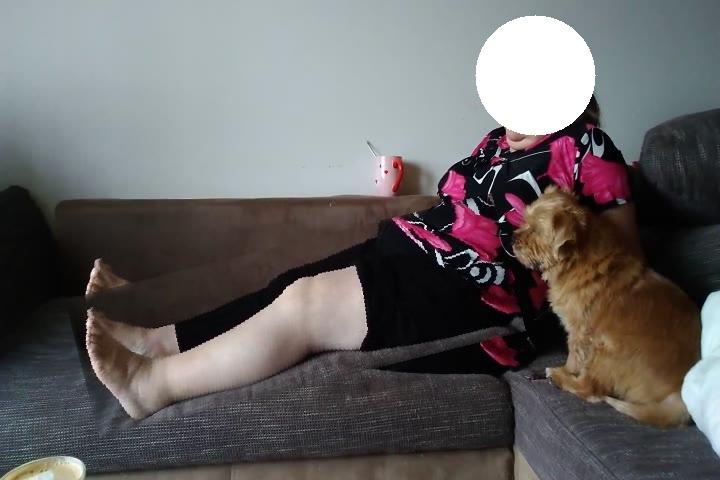lower_body: (72, 220, 522, 412)
